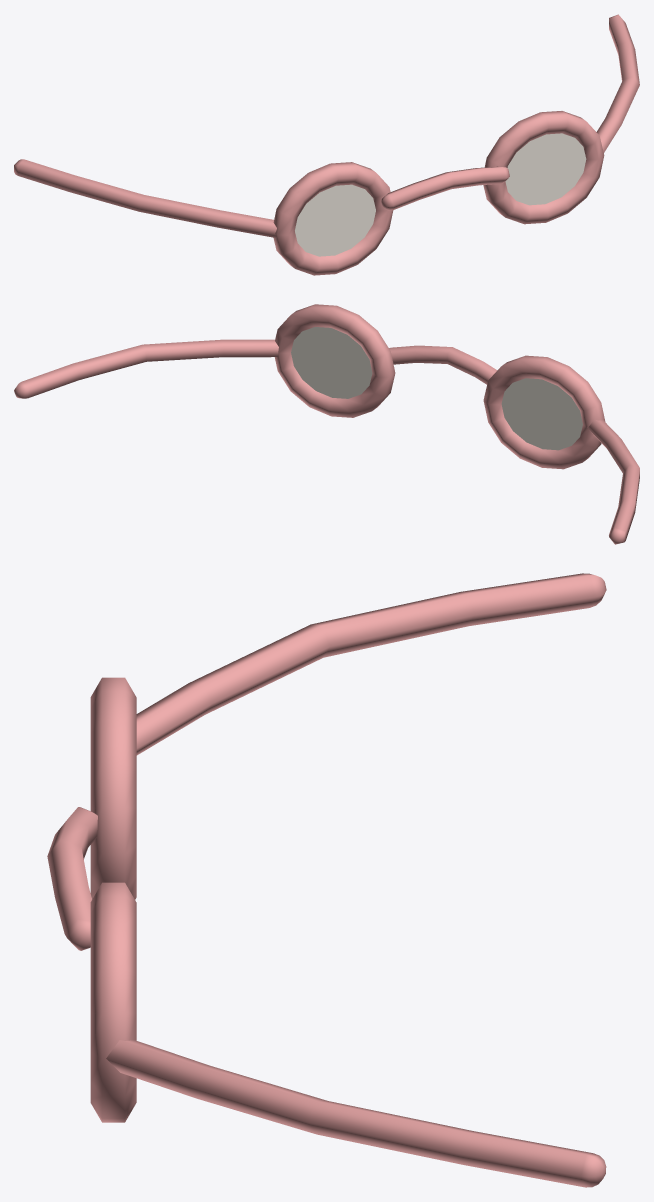
The model's file is funny_glasses.glb.
The picture shows the model from 3 angles, top to bottom: view 1: azimuth 30°, elevation 25°; view 2: azimuth 150°, elevation 25°; view 3: azimuth 270°, elevation 25°; orthographic projection. The views are drawn at different scales.
Parts seen in each view (by area): view 1: funny_glasses_Head; view 2: funny_glasses_Head; view 3: funny_glasses_Head.
Part boxes in pixels (<box>): funny_glasses_Head: <box>14,14,639,275</box>; funny_glasses_Head: <box>14,304,639,544</box>; funny_glasses_Head: <box>47,573,606,1187</box>.
Bounding box in the file's own units: 0.674 × 0.1126 × 0.2681.
